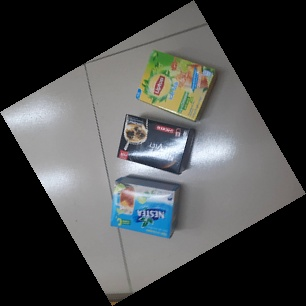CF Viet: (116, 114, 195, 174)
LipTon: (134, 46, 217, 121)
Nestea: (108, 174, 180, 239)
